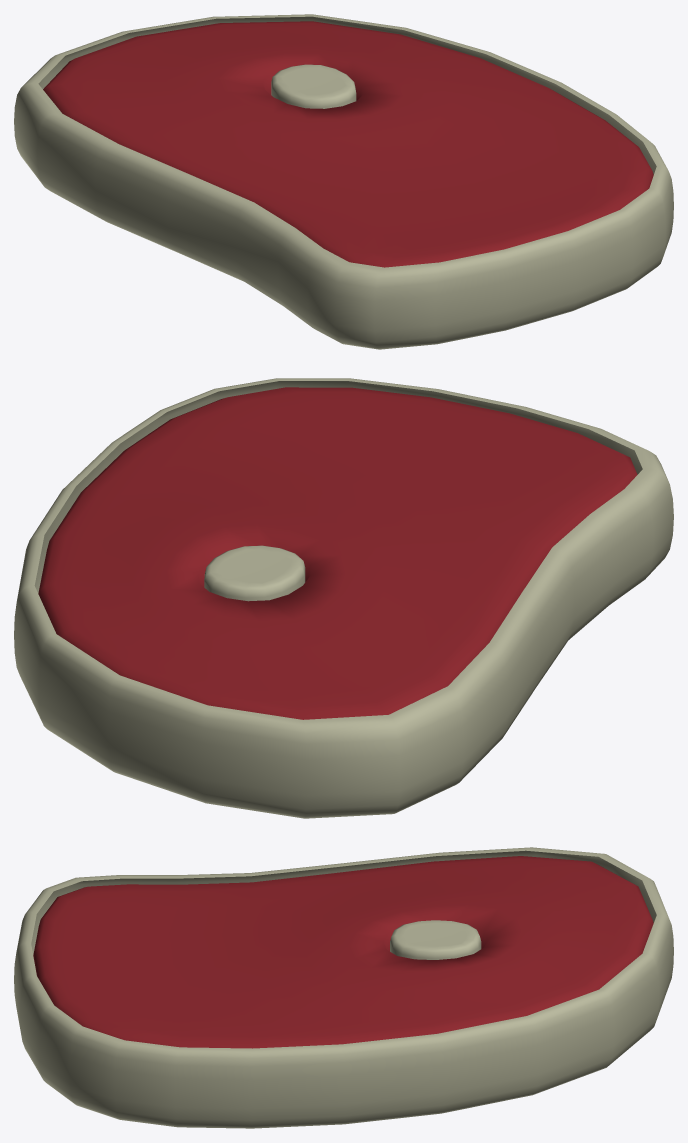
The model's file is cooked-steak.fbx.
3 renders of one model, top to bottom at view 1: azimuth 30°, elevation 25°; view 2: azimuth 150°, elevation 25°; view 3: azimuth 270°, elevation 25°, orthographic. The views are drawn at different scales.
Parts seen in each view (by area): view 1: Viande, Graisse, Os; view 2: Viande, Graisse, Os; view 3: Viande, Graisse, Os.
Part boxes in pixels (box(x1,y1,x2,y2)): Viande: box(43, 21, 653, 267); Graisse: box(14, 14, 673, 349); Os: box(271, 64, 356, 108); Viande: box(38, 387, 637, 719); Graisse: box(14, 378, 673, 818); Os: box(204, 545, 305, 601); Viande: box(33, 856, 653, 1048); Graisse: box(14, 847, 673, 1128); Os: box(390, 920, 481, 959).
Size of the model in its own units: 53.93 by 13.68 by 70.28.
